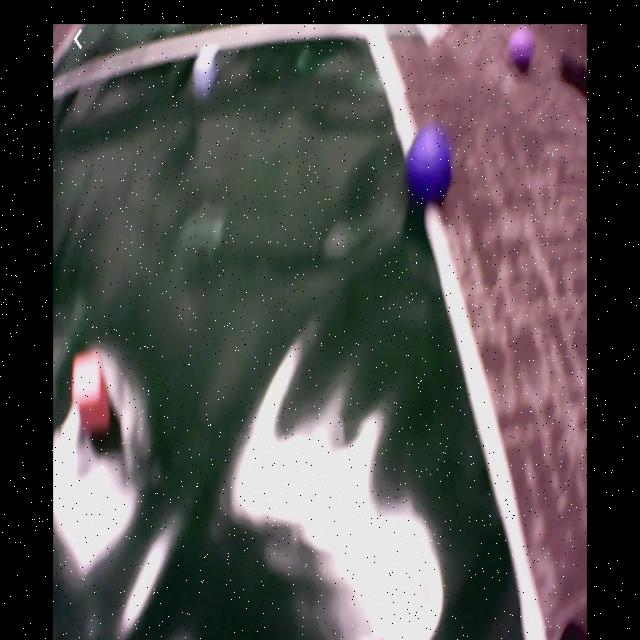ball: (408, 128, 453, 202), (509, 32, 537, 69)
